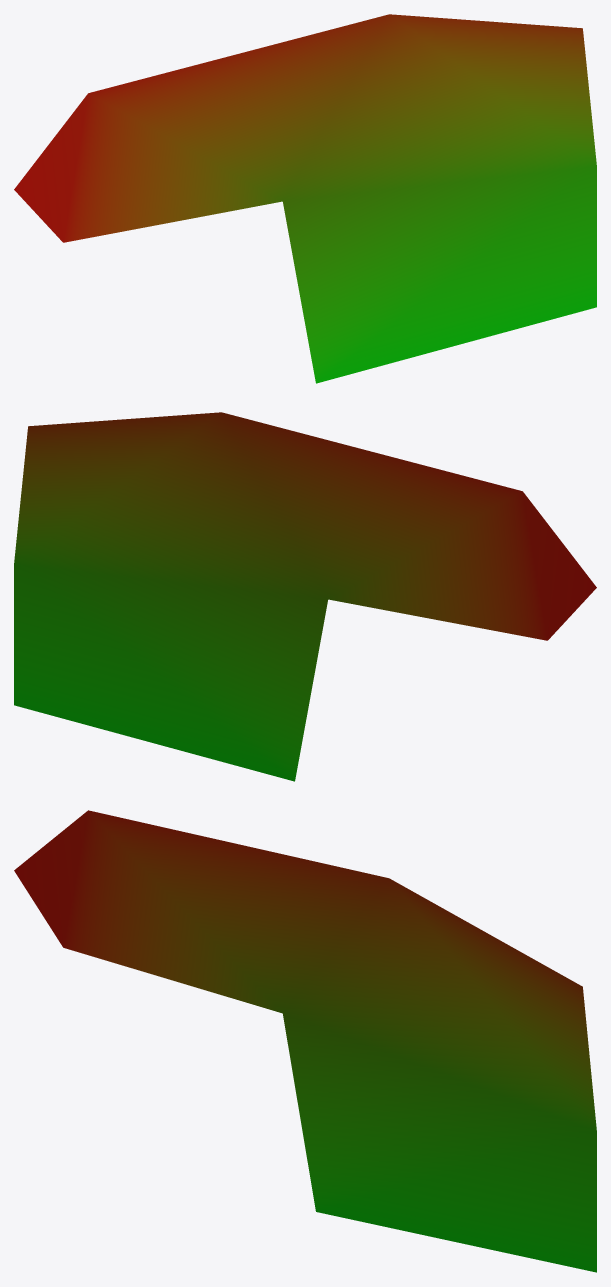
File: Var7_LOD3.fbx
The picture shows the model from 3 angles, top to bottom: view 1: azimuth 30°, elevation 25°; view 2: azimuth 150°, elevation 25°; view 3: azimuth 330°, elevation 25°; orthographic projection.
Parts seen in each view (by area): view 1: _6e6b_Var7_LOD3; view 2: _6e6b_Var7_LOD3; view 3: _6e6b_Var7_LOD3.
Boxes of the visible parts, x1,y1,x2,y2 form: _6e6b_Var7_LOD3: [14, 14, 596, 383]; _6e6b_Var7_LOD3: [14, 412, 596, 781]; _6e6b_Var7_LOD3: [14, 810, 596, 1272].
Size of the model in its own units: 75.56 by 43.54 by 1.73e-05.
